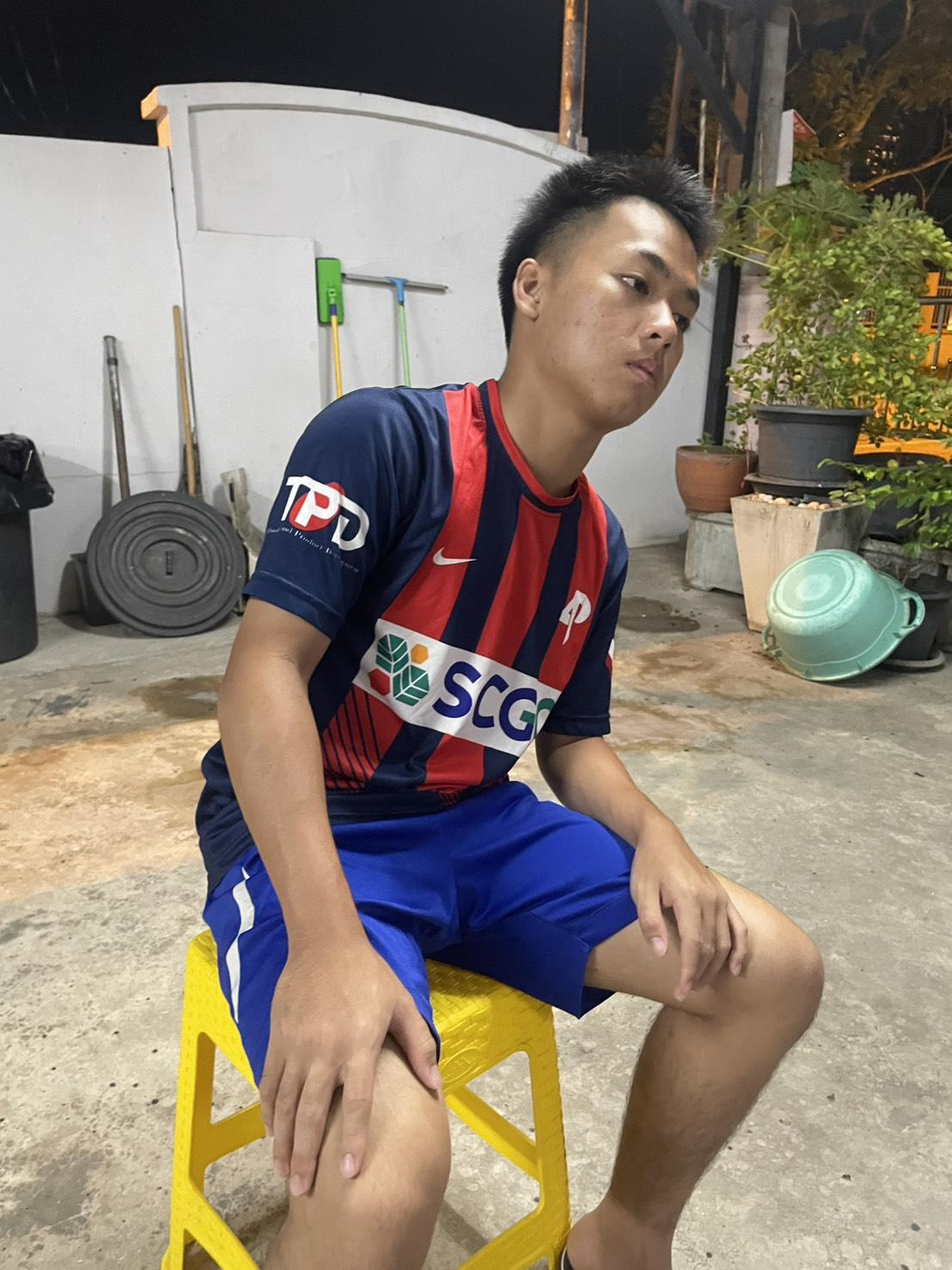BadPosture: (247, 156, 710, 850)
